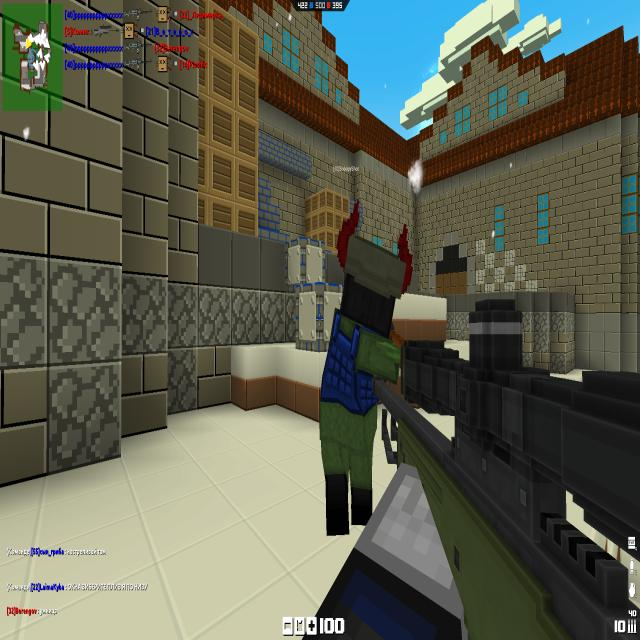player: (326, 214, 420, 536)
